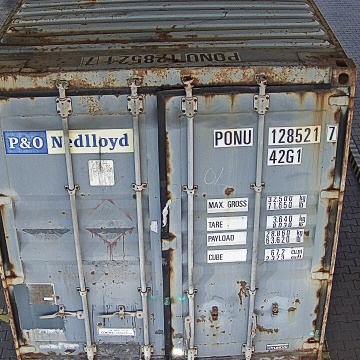serial_id: (214, 126, 337, 145)
